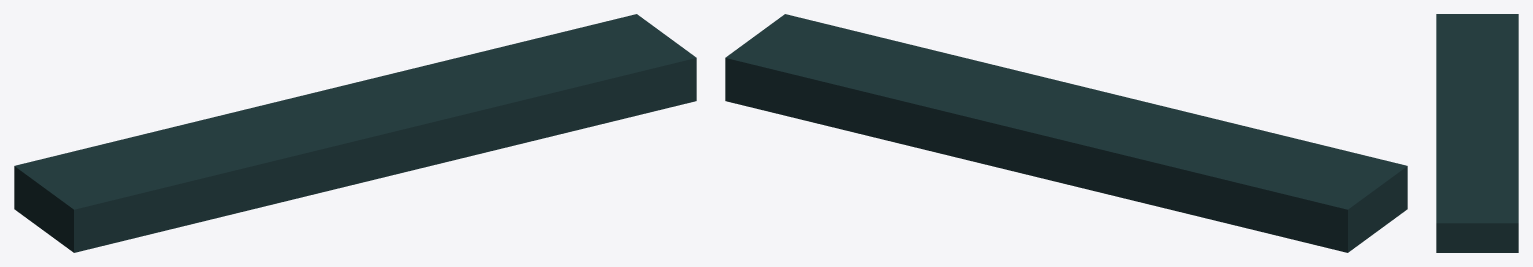
Rendered from ceiling_light_panel.fbx.
The picture shows the model from 3 angles, left to right: view 1: azimuth 30°, elevation 25°; view 2: azimuth 150°, elevation 25°; view 3: azimuth 270°, elevation 25°; orthographic projection. The views are drawn at different scales.
Parts seen in each view (by area): view 1: ceiling_light_panel; view 2: ceiling_light_panel; view 3: ceiling_light_panel.
Boxes of the visible parts, <box> form: ceiling_light_panel: <box>14,14,696,252</box>; ceiling_light_panel: <box>725,14,1407,252</box>; ceiling_light_panel: <box>1436,14,1518,252</box>.
Bounding box in the file's own units: 3 × 0.2 × 0.5.
